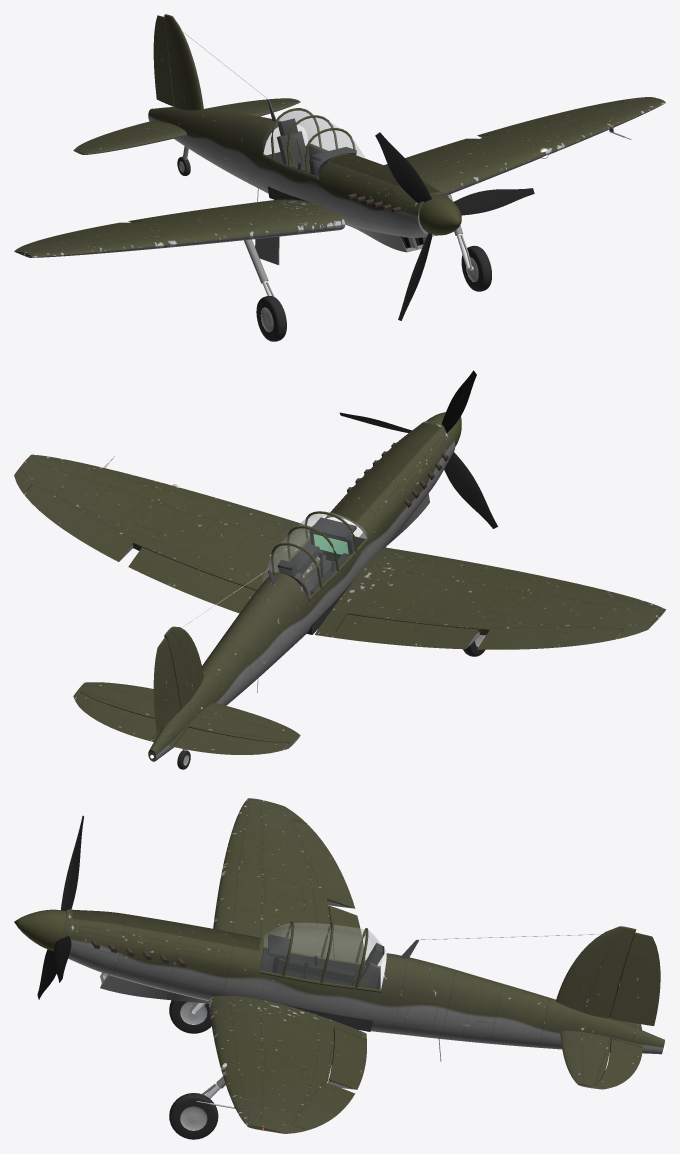
The model's file is vintage-prop-fighter.glb.
3 renders of one model, top to bottom at view 1: azimuth 30°, elevation 25°; view 2: azimuth 150°, elevation 25°; view 3: azimuth 270°, elevation 25°, orthographic. The views are drawn at different scales.
Parts seen in each view (by area): view 1: wings_tail, fuselage, propeller_mesh, canopy_glass, cockpit, gear_main_R_mesh, gear_main_L_mesh, rudder_mesh, canopy_frame, radiator, gear_door_main_R_mesh, elevator_R_mesh (+1 smaller); view 2: wings_tail, fuselage, canopy_glass, cockpit, flap_R_mesh, flap_L_mesh, propeller_mesh, aileron_L_mesh, aileron_R_mesh, elevator_R_mesh, rudder_mesh, elevator_L_mesh (+1 smaller); view 3: wings_tail, fuselage, canopy_glass, cockpit, rudder_mesh, propeller_mesh, gear_main_L_mesh, flap_L_mesh, aileron_R_mesh, canopy_frame, flap_R_mesh, elevator_L_mesh (+3 smaller).
Part boxes in pixels (x1,y1,x2,y2): wings_tail: [14, 14, 665, 257]; fuselage: [148, 107, 450, 237]; propeller_mesh: [375, 132, 534, 320]; canopy_glass: [263, 110, 364, 176]; cockpit: [267, 118, 356, 201]; gear_main_R_mesh: [244, 239, 286, 341]; gear_main_L_mesh: [447, 194, 491, 291]; rudder_mesh: [153, 15, 174, 106]; canopy_frame: [262, 108, 356, 179]; radiator: [345, 223, 426, 252]; gear_door_main_R_mesh: [255, 236, 279, 265]; elevator_R_mesh: [75, 121, 164, 149]; wings_tail: [14, 454, 665, 749]; fuselage: [148, 421, 455, 761]; canopy_glass: [263, 512, 366, 597]; cockpit: [277, 517, 365, 634]; flap_R_mesh: [333, 614, 480, 649]; flap_L_mesh: [128, 547, 256, 613]; propeller_mesh: [339, 370, 497, 528]; aileron_L_mesh: [24, 485, 132, 561]; aileron_R_mesh: [477, 629, 622, 649]; elevator_R_mesh: [174, 727, 288, 754]; rudder_mesh: [153, 638, 180, 732]; elevator_L_mesh: [74, 692, 157, 741]; wings_tail: [208, 798, 642, 1133]; fuselage: [62, 909, 664, 1054]; canopy_glass: [260, 923, 386, 989]; cockpit: [260, 934, 384, 1031]; rudder_mesh: [610, 932, 660, 1025]; propeller_mesh: [14, 816, 83, 999]; gear_main_L_mesh: [169, 1076, 225, 1139]; flap_L_mesh: [328, 1028, 366, 1089]; aileron_R_mesh: [293, 820, 355, 908]; canopy_frame: [259, 921, 380, 992]; flap_R_mesh: [328, 905, 365, 962]; elevator_L_mesh: [595, 1039, 642, 1088].
Bounding box in the file's own units: 11.01 × 3.86 × 9.26.
Materials: 25 (1 with a texture image).
